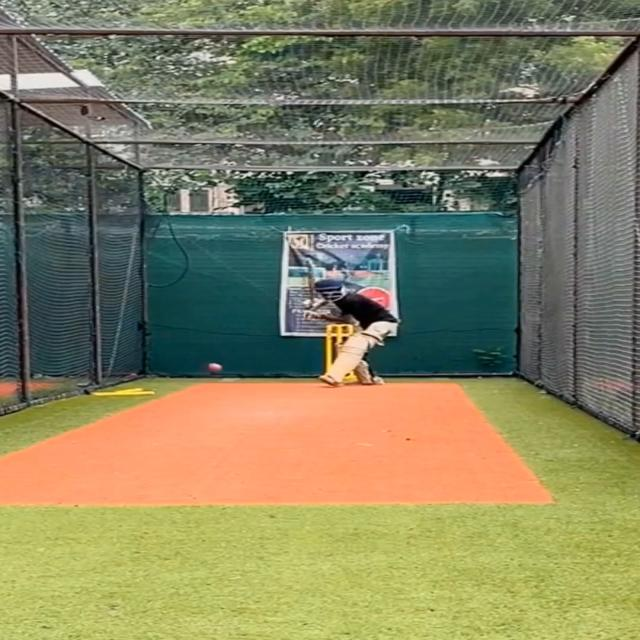ball: (205, 362, 223, 374)
stump: (325, 324, 359, 382)
